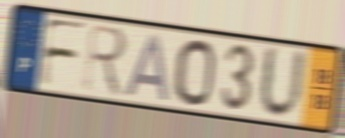3: (219, 42, 257, 115)
A: (122, 31, 172, 104)
F: (36, 15, 91, 90)
O: (173, 37, 218, 109)
R: (81, 21, 129, 100)
U: (257, 42, 309, 123)
